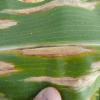Corn leaf blight: (0, 1, 99, 86)
